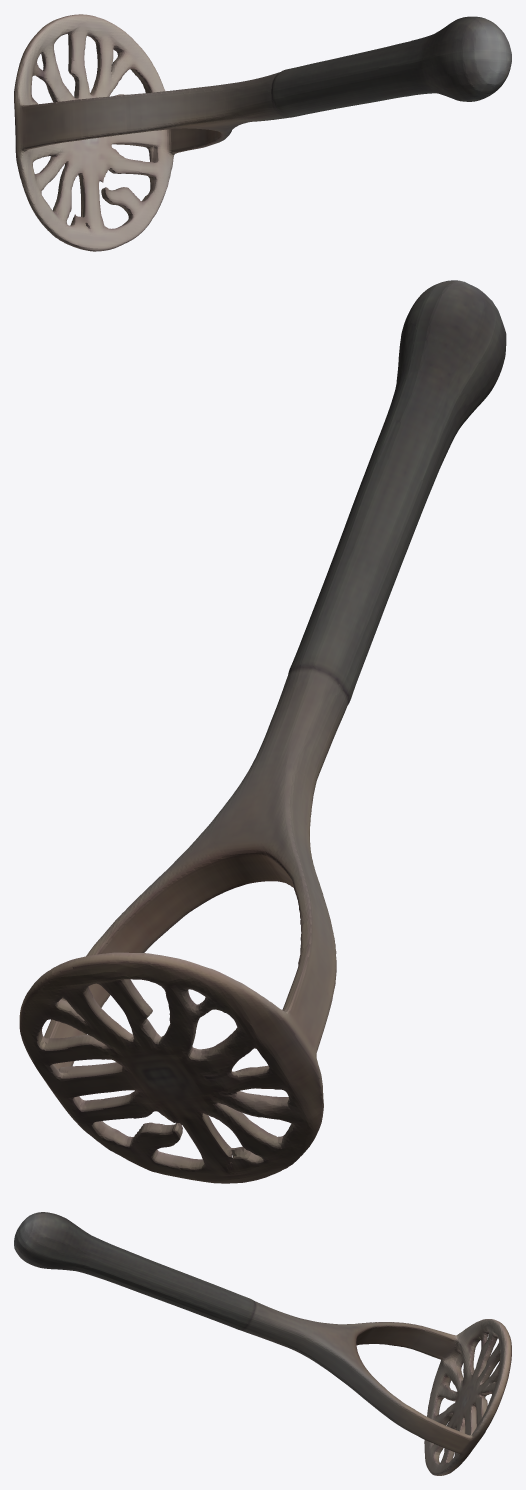
Rendered from frame_0082_source_000082_object.glb.
The picture shows the model from 3 angles, top to bottom: view 1: azimuth 30°, elevation 25°; view 2: azimuth 150°, elevation 25°; view 3: azimuth 270°, elevation 25°; orthographic projection. The views are drawn at different scales.
Parts seen in each view (by area): view 1: world; view 2: world; view 3: world.
Part boxes in pixels (box(x1,y1,x2,y2)): world: box(14, 14, 511, 251); world: box(19, 280, 506, 1183); world: box(14, 1212, 511, 1475).
Size of the model in its own units: 0.087 by 0.1569 by 0.2447.
